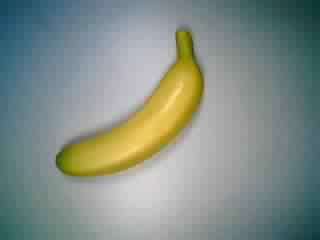banana: (50, 22, 209, 182)
